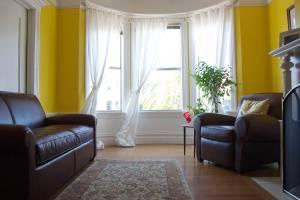window: (85, 8, 233, 116)
